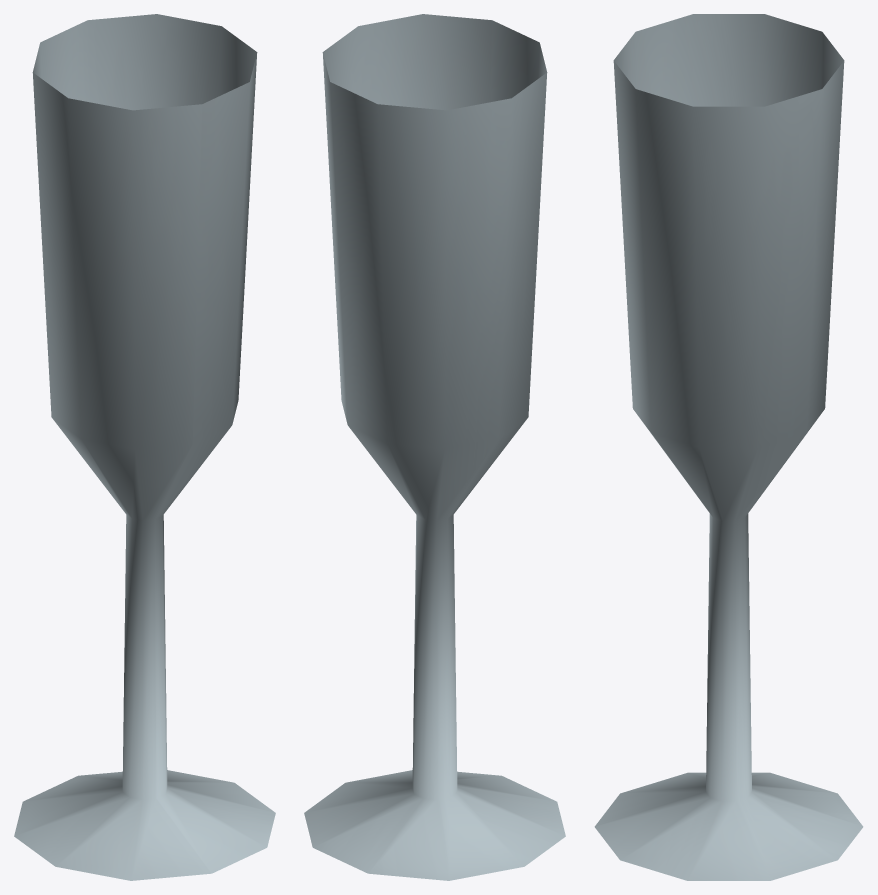
The model's file is Glass_Flute_1.gltf.
3 views of the same model, side by side, from view 1: azimuth 30°, elevation 25°; view 2: azimuth 150°, elevation 25°; view 3: azimuth 270°, elevation 25° (orthographic).
Visible parts, largest first — view 1: Glass_Flute_1; view 2: Glass_Flute_1; view 3: Glass_Flute_1.
Part boxes in pixels (left/top/right/bottom): Glass_Flute_1: left=14, top=14, right=275, bottom=880; Glass_Flute_1: left=304, top=14, right=565, bottom=880; Glass_Flute_1: left=594, top=14, right=863, bottom=880.
Size of the model in its own units: 0.0666 by 0.22 by 0.07.
1 material, 1 textured.
